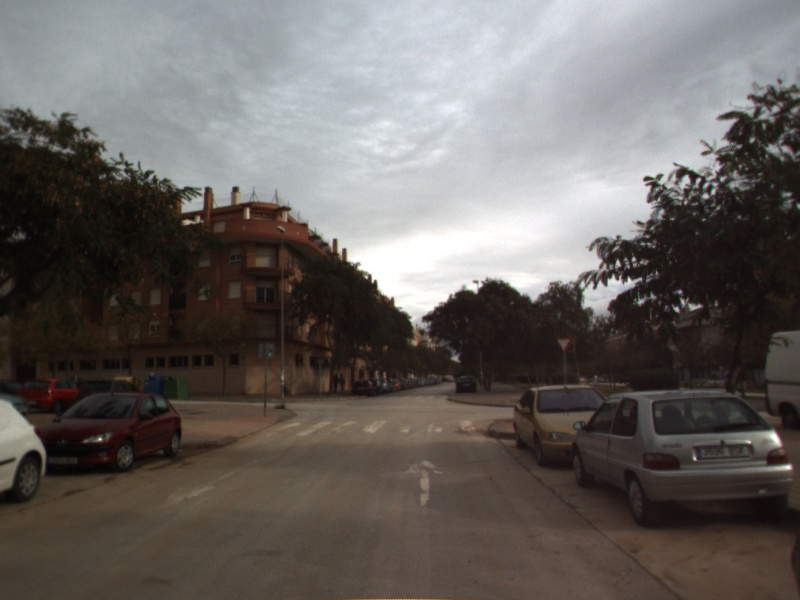STRAIGHT: (401, 457, 447, 508)
